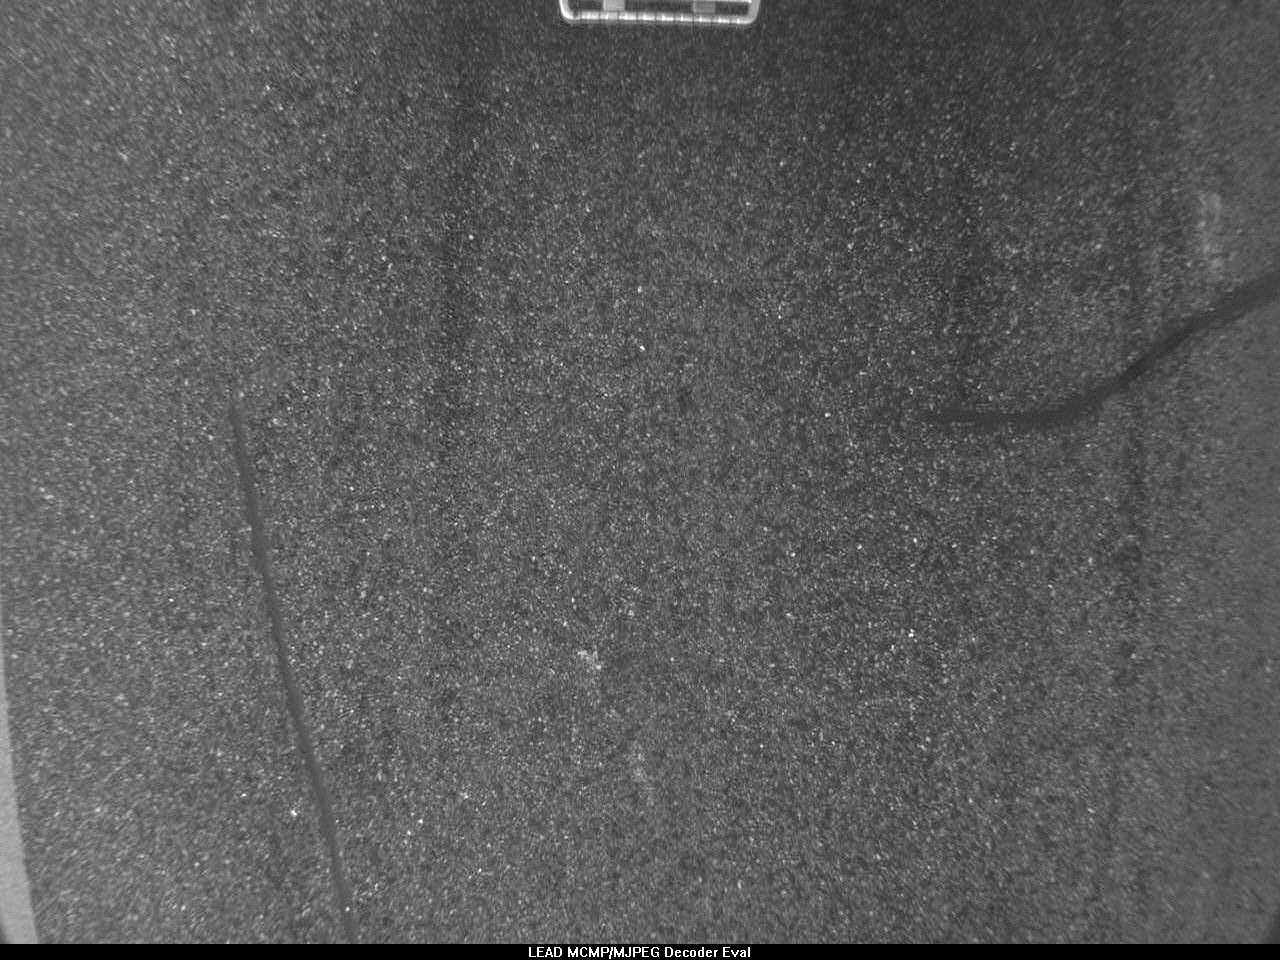sealed: (926, 262, 1266, 434)
